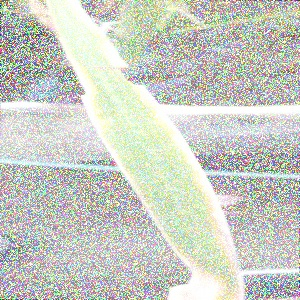Leaf_Blast: (124, 111, 238, 300)
